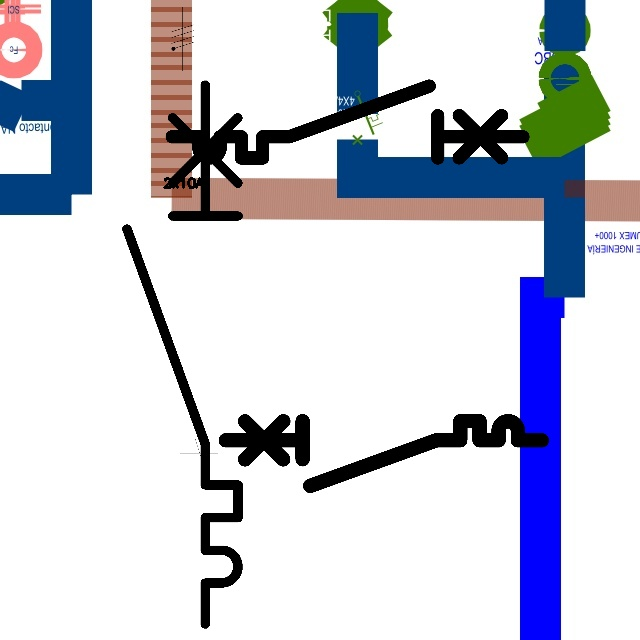interruptor_termomagnetico: (113, 71, 252, 638), (163, 77, 532, 167), (217, 413, 550, 494)
